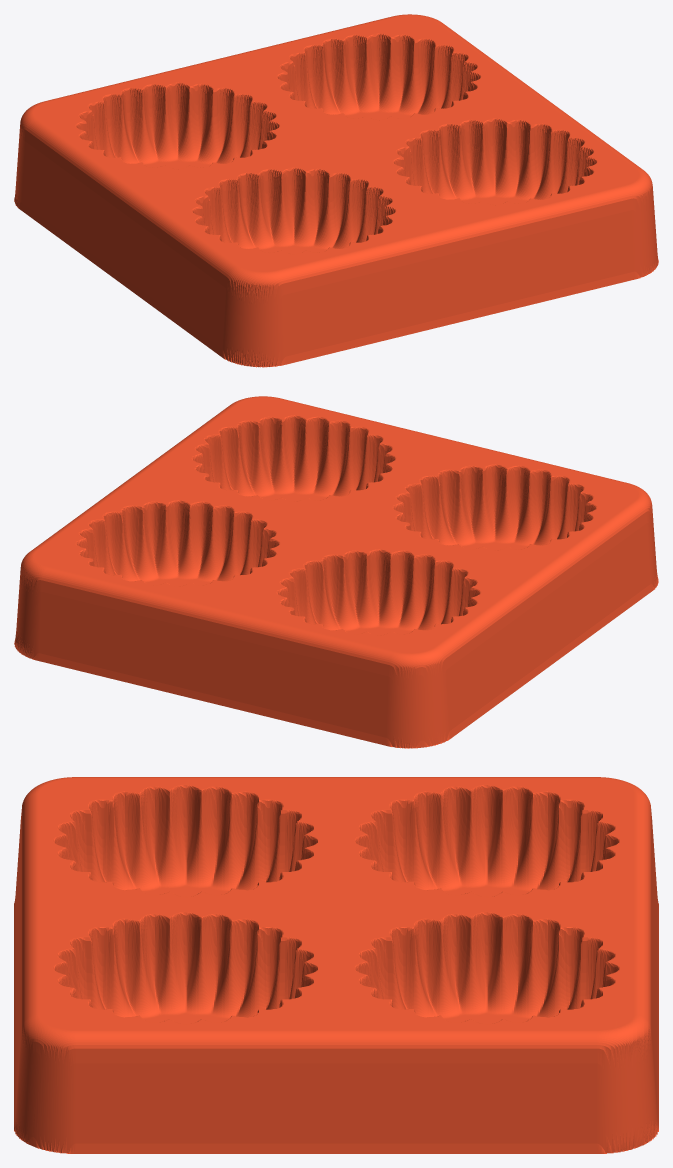
Rendered from mold.glb.
The picture shows the model from 3 angles, top to bottom: view 1: azimuth 30°, elevation 25°; view 2: azimuth 150°, elevation 25°; view 3: azimuth 270°, elevation 25°; orthographic projection. The views are drawn at different scales.
Parts seen in each view (by area): view 1: geometry_0; view 2: geometry_0; view 3: geometry_0.
Part boxes in pixels (x1,y1,x2,y2): geometry_0: (14,14,658,367); geometry_0: (14,396,658,748); geometry_0: (14,777,658,1153).
Size of the model in its own units: 0.0942 by 0.0182 by 0.0942.
